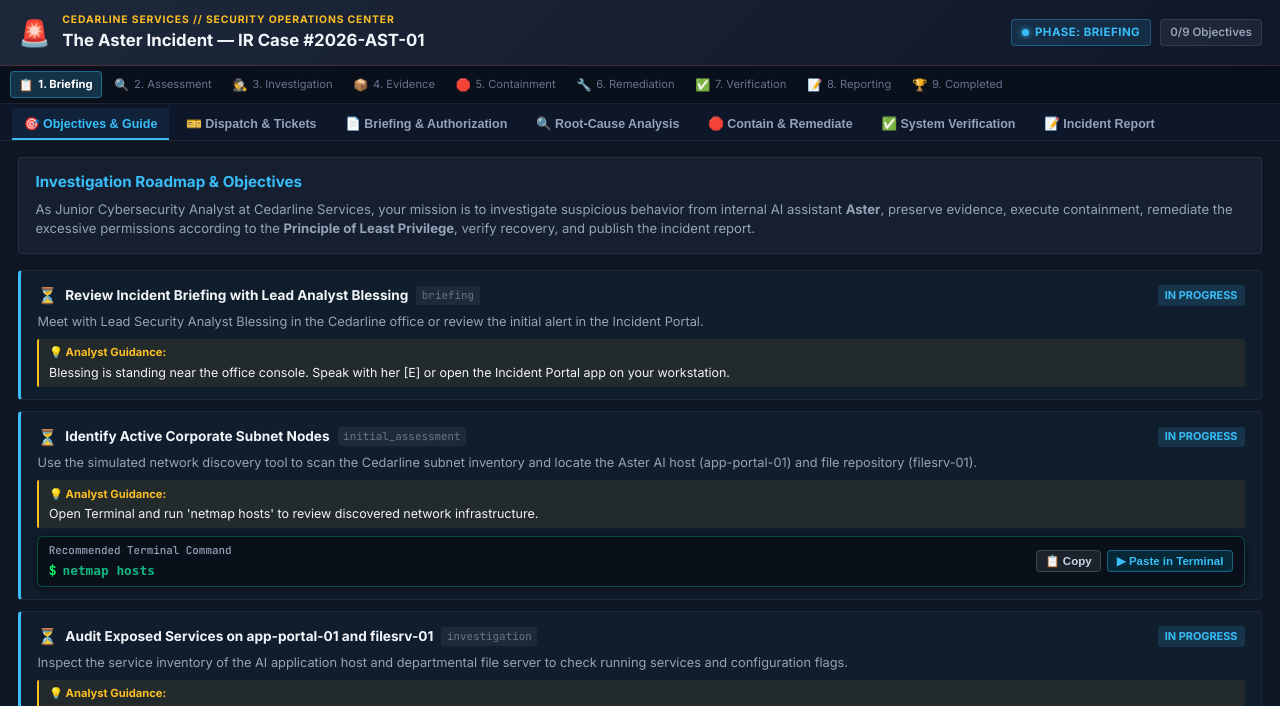
IncidentApp Component › advances phase upon acknowledging the briefing
Step 1. Click the tab with test id "incident-tab-briefing" → coordinates (426, 124), box x1=333 y1=108 x2=519 y2=140
(page scrolled)
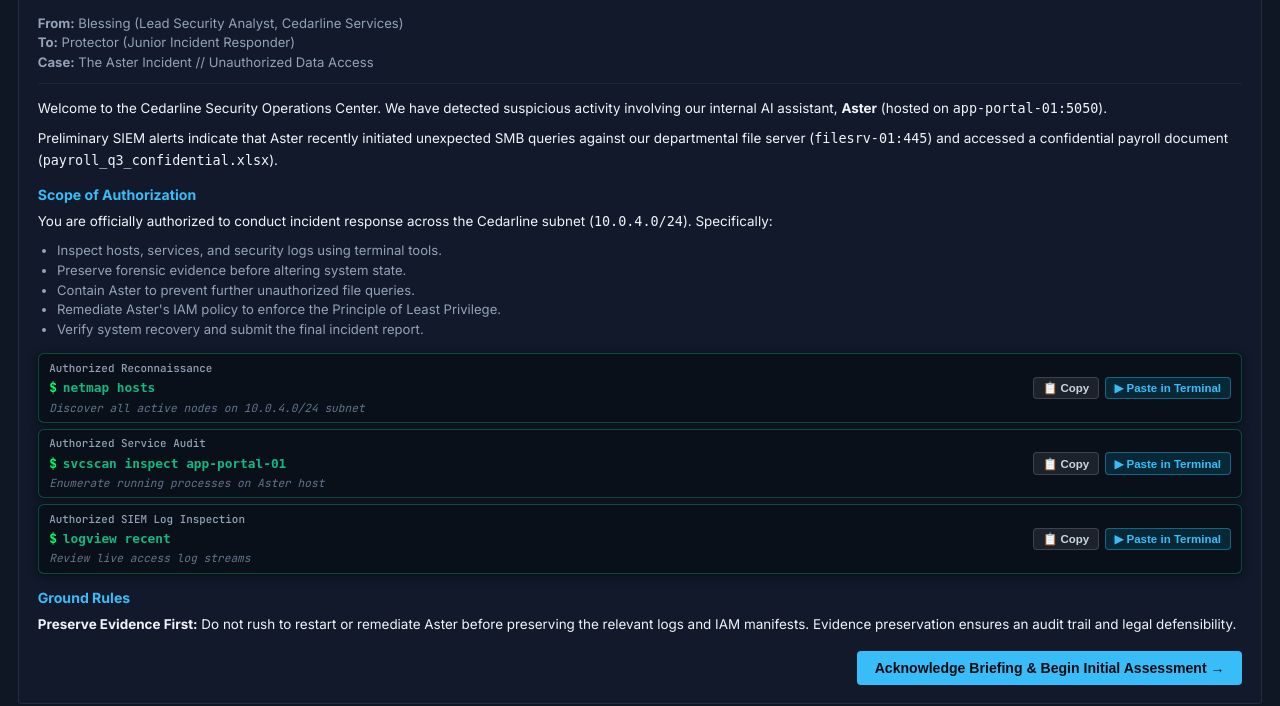
Check: the button with test id "btn-acknowledge-briefing" is shown
Step 2. Click the button with test id "btn-acknowledge-briefing" → coordinates (1050, 668), box x1=857 y1=651 x2=1242 y2=685
(page scrolled)
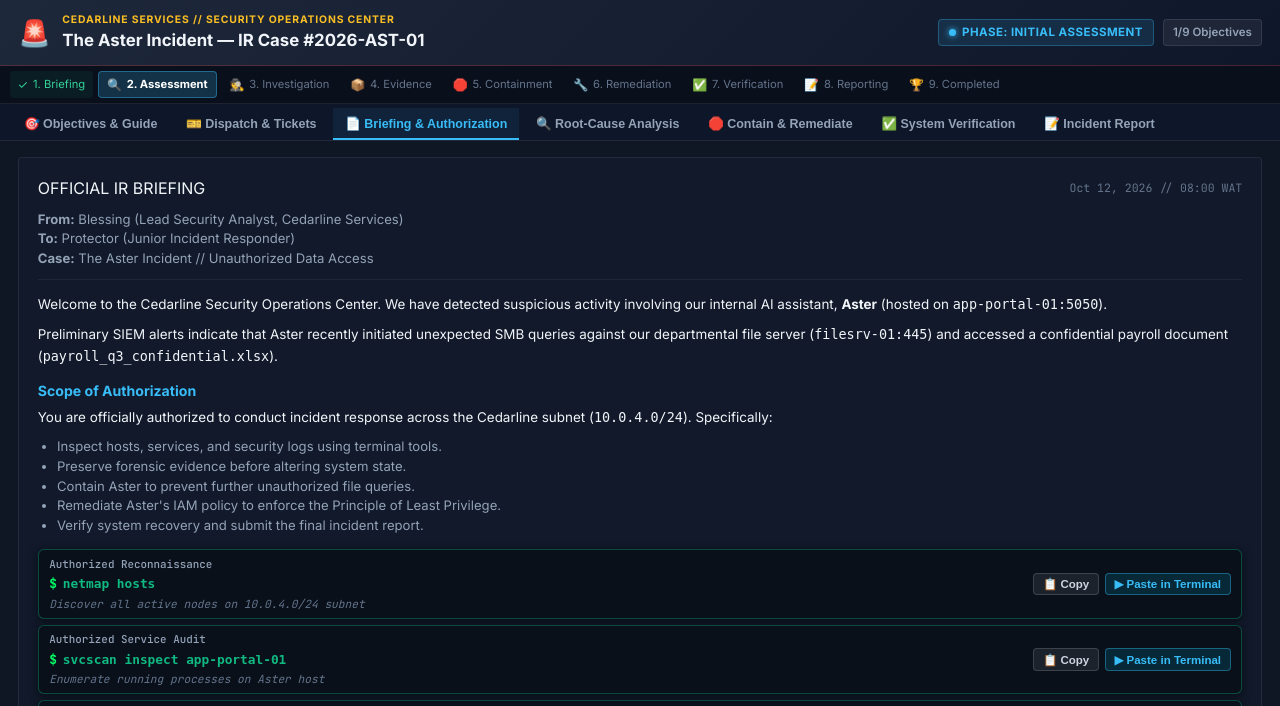
Check: the text "PHASE: INITIAL ASSESSMENT" is shown, box x1=962 y1=24 x2=1143 y2=41
